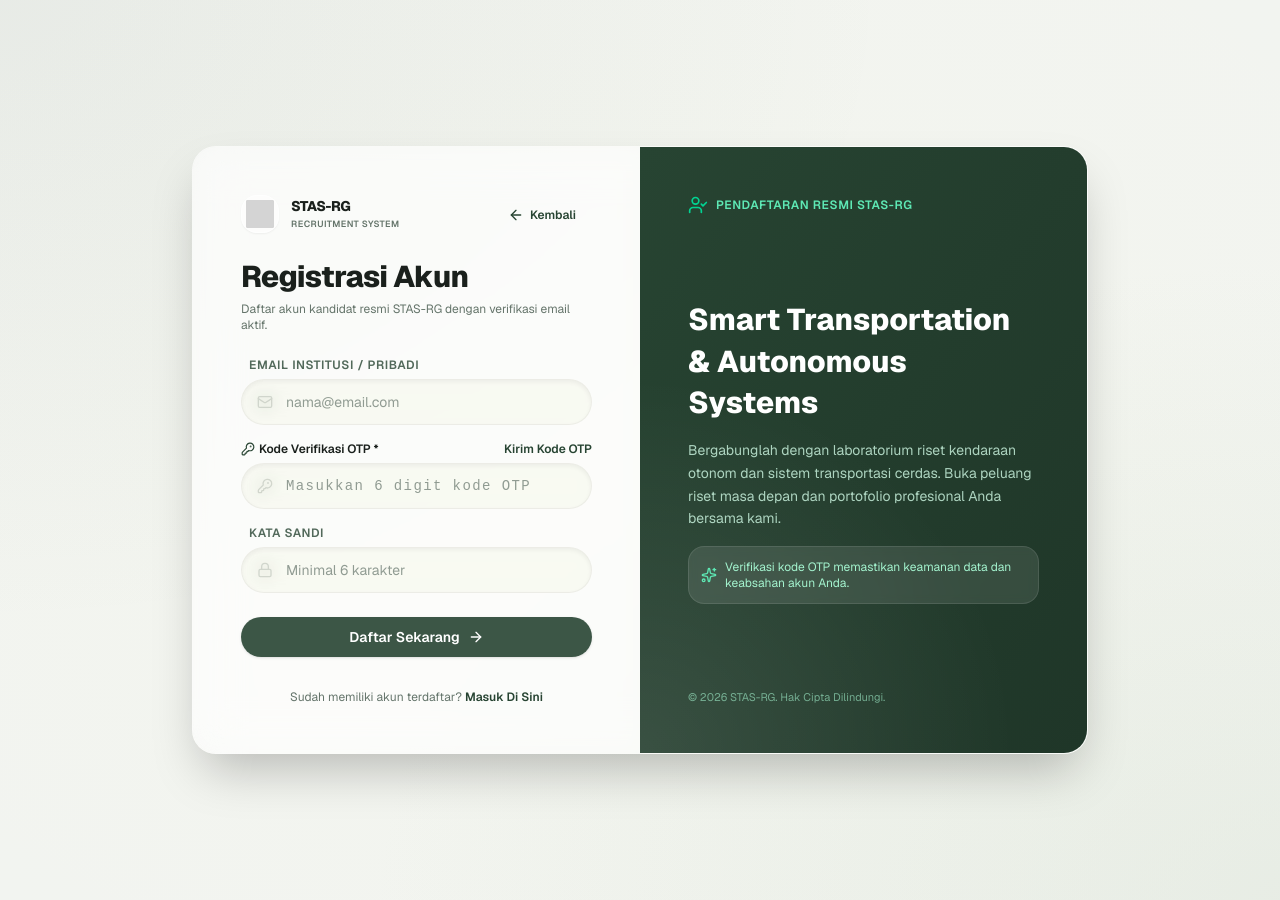
Test: app/auth/register › handles sending OTP and shows cooldown
This screenshot has width=1280, height=900.
Type "test@campus.ac.id" into the field labelled "Email Institusi / Pribadi" at (416, 402), box x1=241 y1=379 x2=592 y2=425
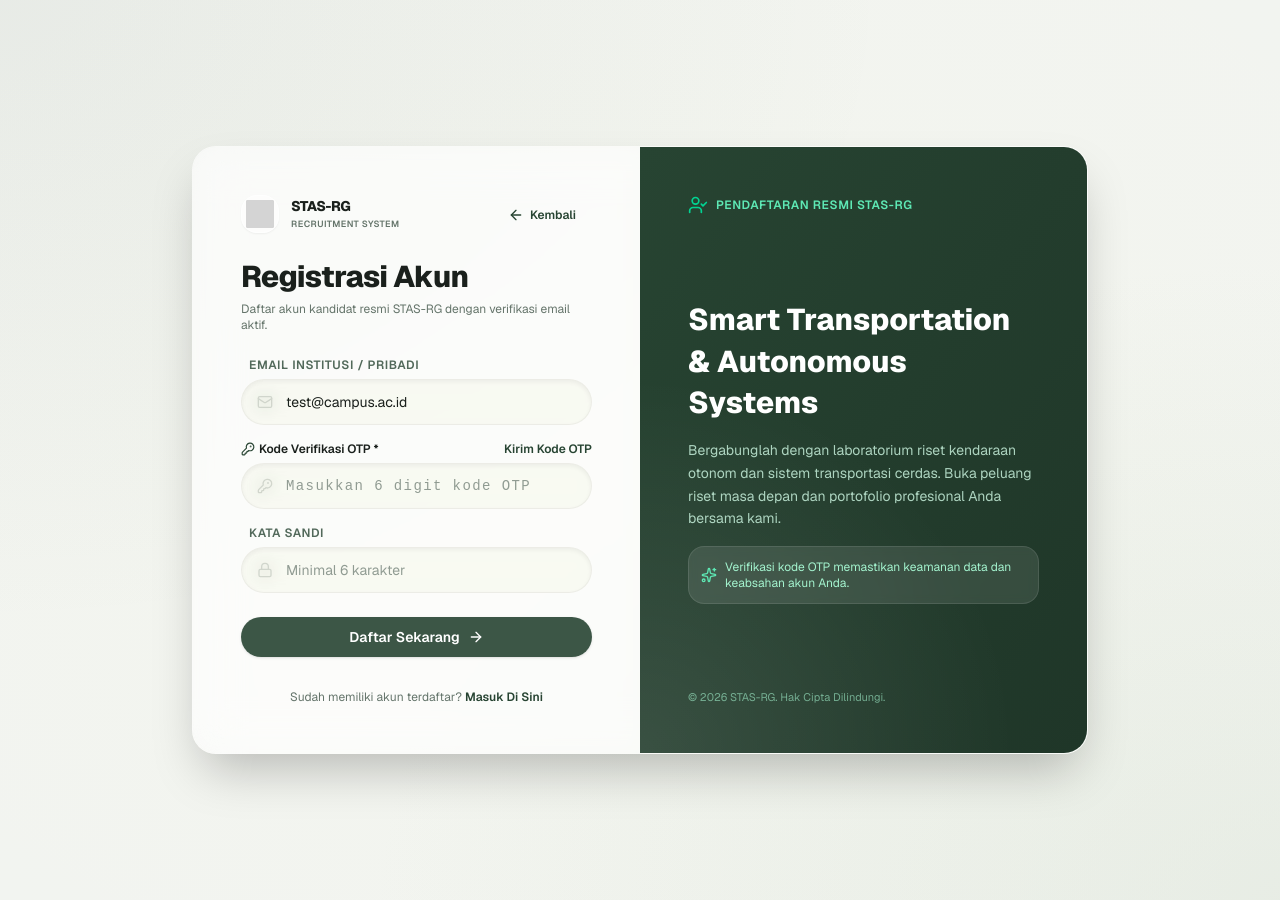
Click the button "Kirim Kode OTP" at (548, 449), box x1=504 y1=441 x2=592 y2=457
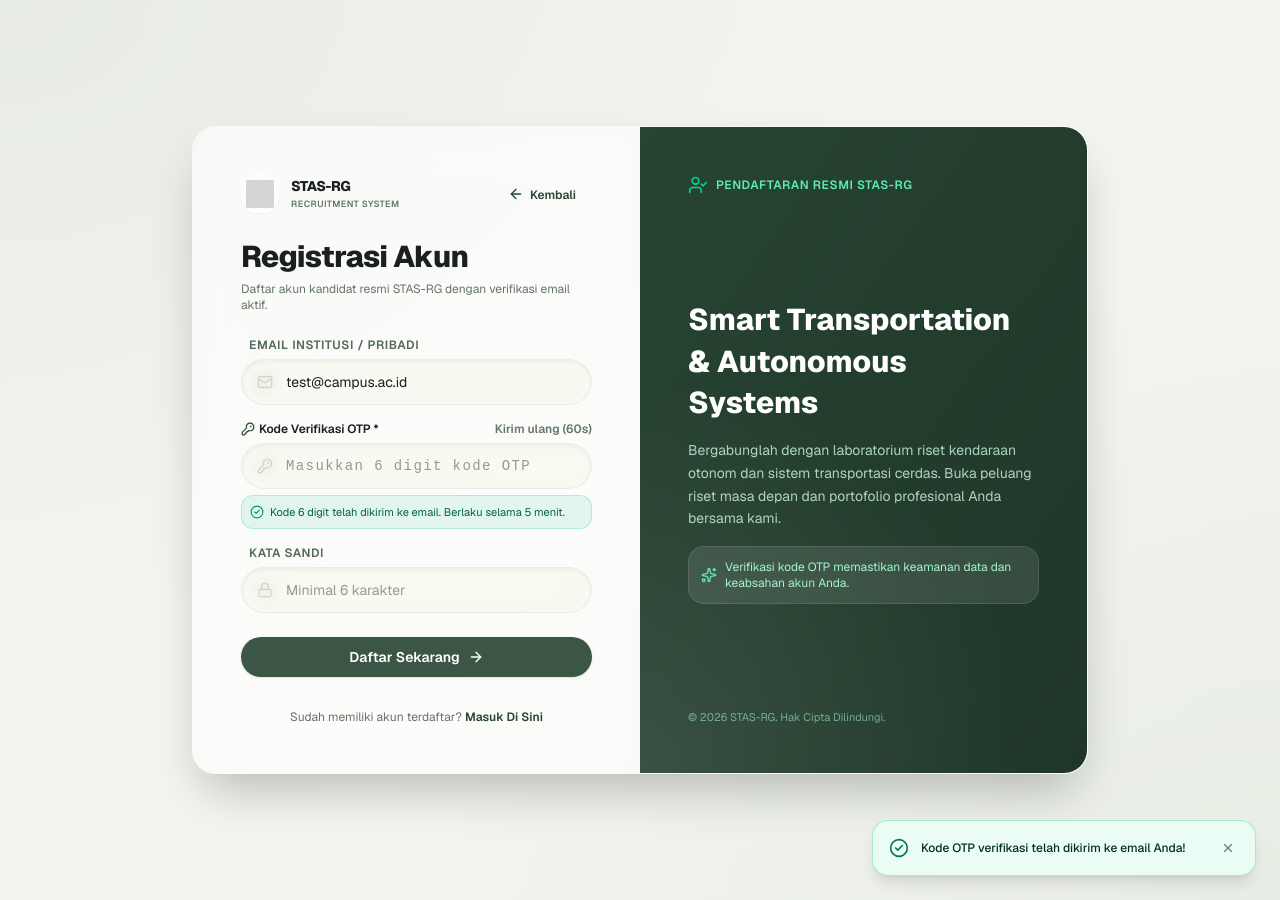
Expected: the text "Kode 6 digit telah dikirim ke email. Berlaku selama 5 menit." is shown, x1=270 y1=504 x2=565 y2=520
Expected: the button "Kirim ulang (60s)" is shown, x1=495 y1=421 x2=592 y2=437
